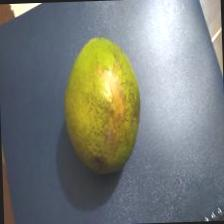Orange Rotten: (54, 28, 158, 188)
